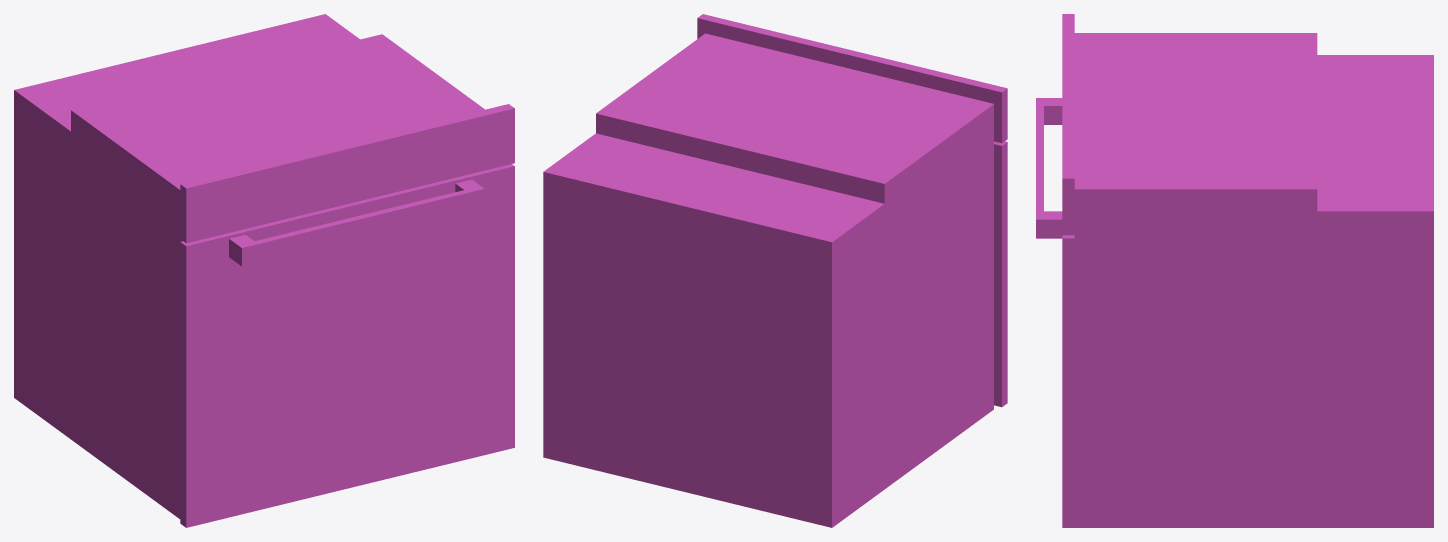
Rendered from oven_600.glb.
3 views of the same model, side by side, from view 1: azimuth 30°, elevation 25°; view 2: azimuth 150°, elevation 25°; view 3: azimuth 270°, elevation 25° (orthographic). The views are drawn at different scales.
Parts seen in each view (by area): view 1: VIFS001, VIFS002, VIFS003; view 2: VIFS002, VIFS001; view 3: VIFS002, VIFS001, VIFS003.
Part boxes in pixels (x1,y1,x2,y2): VIFS001: (180, 104, 514, 527); VIFS002: (14, 14, 484, 518); VIFS003: (229, 179, 484, 266); VIFS002: (543, 33, 993, 527); VIFS001: (697, 14, 1007, 407); VIFS002: (1074, 33, 1433, 527); VIFS001: (1062, 14, 1074, 527); VIFS003: (1036, 98, 1062, 238).
Size of the model in its own units: 0.595 by 0.595 by 0.607.
